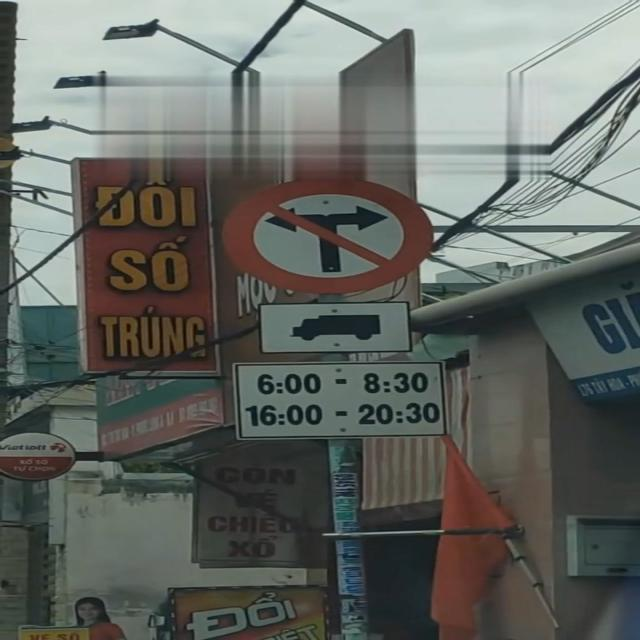137-cam-re-trai-va-re-phai: (222, 173, 444, 296)
